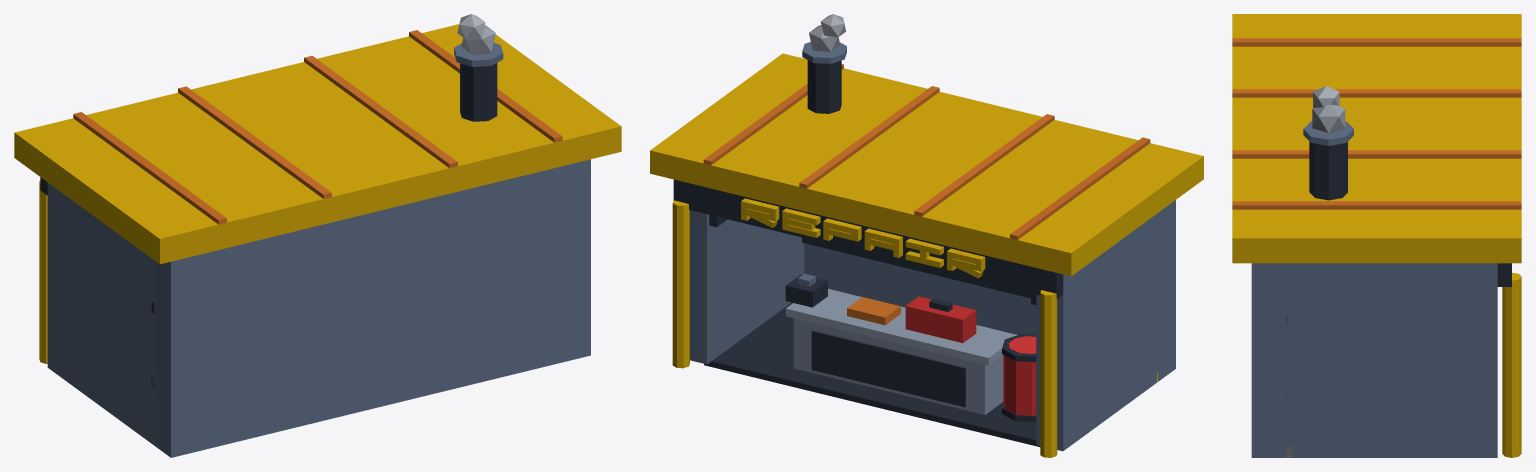
The model's file is Decor_MechaHangar_Workshop.fbx.
3 renders of one model, left to right at view 1: azimuth 30°, elevation 25°; view 2: azimuth 150°, elevation 25°; view 3: azimuth 270°, elevation 25°, orthographic. The views are drawn at different scales.
Visible parts, largest first — view 1: Workshop_Body; view 2: Workshop_Body; view 3: Workshop_Body.
Boxes of the visible parts, x1,y1,x2,y2 form: Workshop_Body: (14,14,621,457); Workshop_Body: (650,14,1203,457); Workshop_Body: (1232,14,1521,457).
Size of the model in its own units: 22 by 15.5 by 12.
